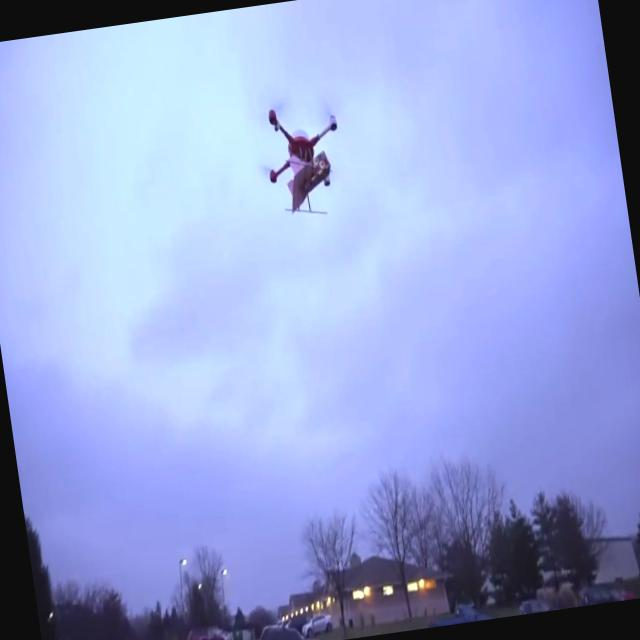drone: (258, 95, 354, 225)
